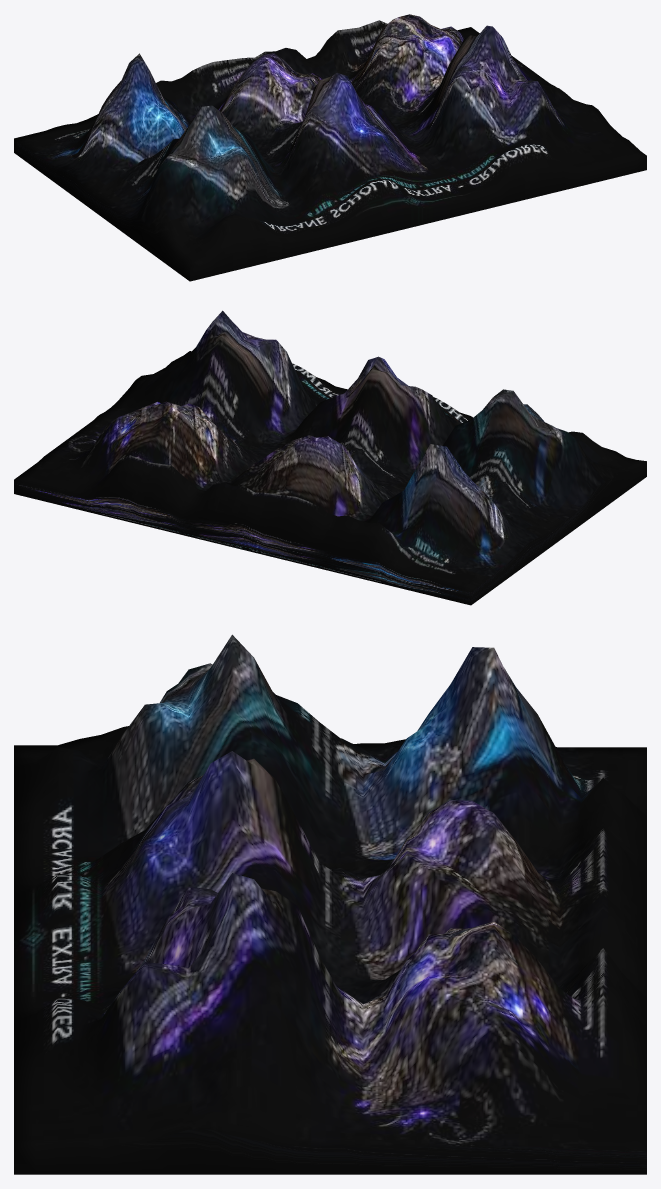
File: EXTRA_Grimoires_6Tier.glb
3 views of the same model, one above another, from view 1: azimuth 30°, elevation 25°; view 2: azimuth 150°, elevation 25°; view 3: azimuth 270°, elevation 25° (orthographic). The views are drawn at different scales.
Parts seen in each view (by area): view 1: EXTRA_Grimoires_6Tier; view 2: EXTRA_Grimoires_6Tier; view 3: EXTRA_Grimoires_6Tier.
Part boxes in pixels (x1=…): EXTRA_Grimoires_6Tier: x1=14, y1=14, x2=646, y2=281; EXTRA_Grimoires_6Tier: x1=14, y1=310, x2=646, y2=605; EXTRA_Grimoires_6Tier: x1=14, y1=634, x2=646, y2=1174.
Size of the model in its own units: 2 by 0.51 by 1.33.
Materials: 1 (1 with a texture image).
